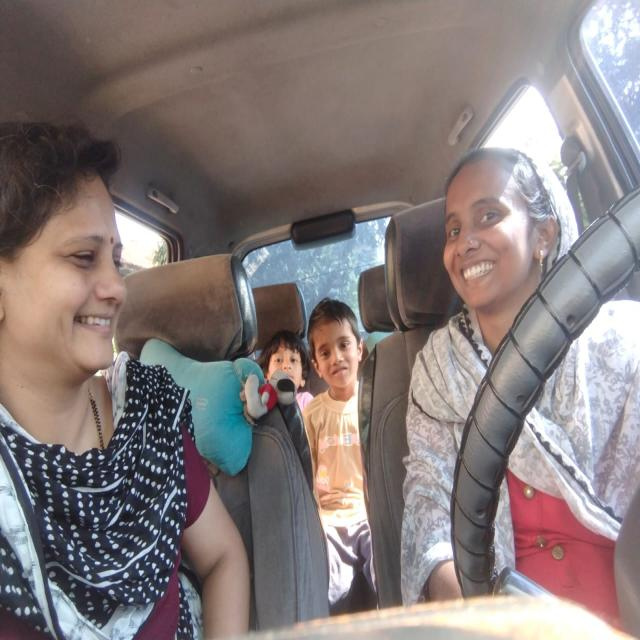LeftRight: (441, 155, 555, 307)
person: (0, 123, 126, 387), (304, 296, 377, 396), (267, 335, 305, 390)
talking: (70, 306, 122, 345), (460, 258, 501, 282)
